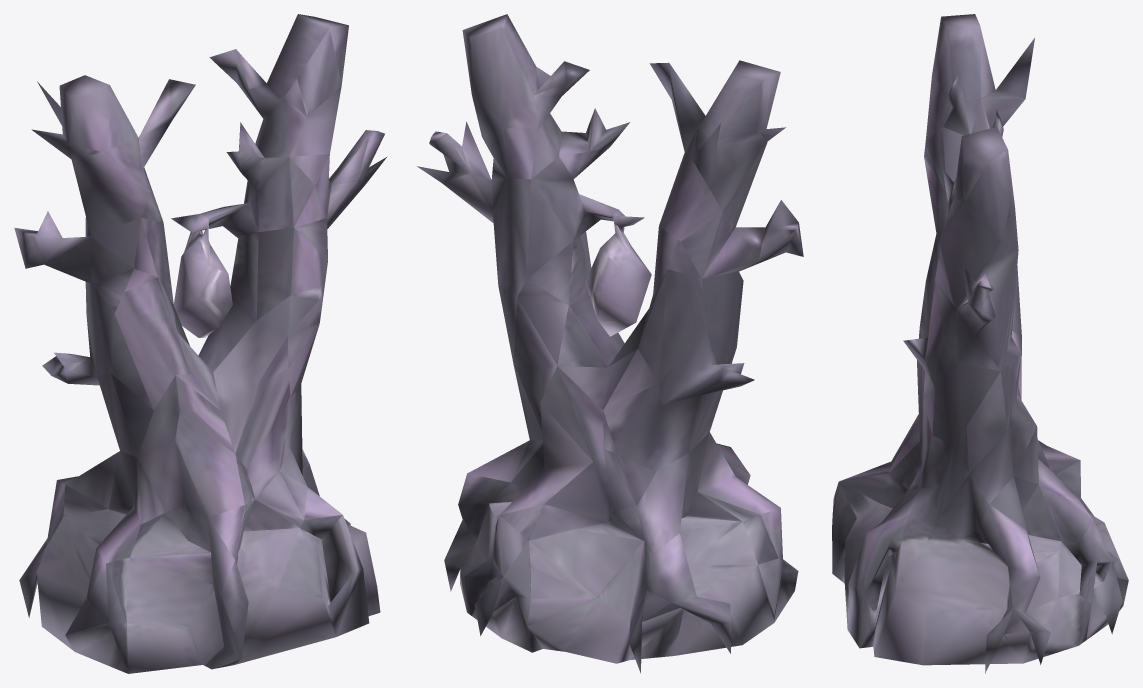
The model's file is repere-chene-loin.glb.
The picture shows the model from 3 angles, left to right: view 1: azimuth 30°, elevation 25°; view 2: azimuth 150°, elevation 25°; view 3: azimuth 270°, elevation 25°; orthographic projection. The views are drawn at different scales.
Parts seen in each view (by area): view 1: repere-chene-loin; view 2: repere-chene-loin; view 3: repere-chene-loin.
Part boxes in pixels (box(x1,y1,x2,y2)): repere-chene-loin: box(14, 14, 386, 673); repere-chene-loin: box(417, 14, 803, 673); repere-chene-loin: box(832, 14, 1128, 673).
Bounding box in the file's own units: 1.34 × 1.89 × 0.9675.
Materials: 1 (1 with a texture image).
